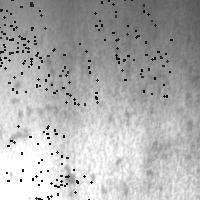pitted_surface: (11, 16, 150, 199), (138, 20, 199, 199), (36, 43, 96, 103), (6, 125, 66, 185), (115, 36, 170, 95), (0, 9, 44, 67), (94, 0, 154, 39), (0, 36, 34, 95), (32, 169, 92, 200), (0, 0, 39, 21)
